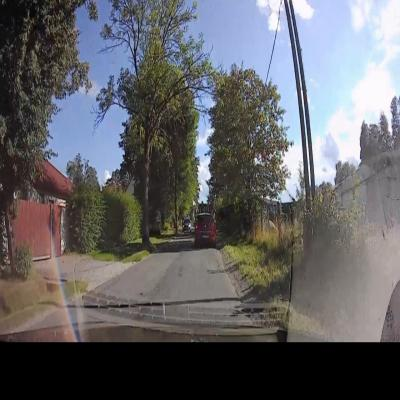clear-road: (94, 248, 238, 302)
